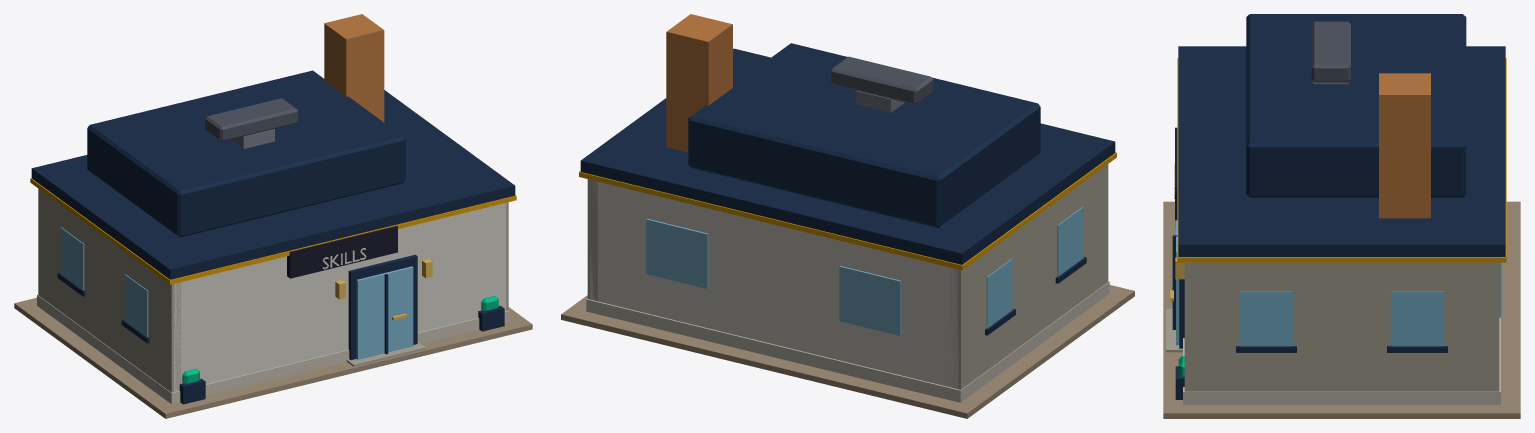
Rendered from skill-forge-QpqKq71k.glb.
3 renders of one model, left to right at view 1: azimuth 30°, elevation 25°; view 2: azimuth 150°, elevation 25°; view 3: azimuth 270°, elevation 25°, orthographic. The views are drawn at different scales.
Visible parts, largest first — view 1: Architecture; view 2: Architecture; view 3: Architecture.
Boxes of the visible parts, x1,y1,x2,y2 form: Architecture: (14, 14, 532, 418); Architecture: (561, 14, 1134, 418); Architecture: (1163, 14, 1520, 418).
Bounding box in the file's own units: 14 × 8.98 × 10.
